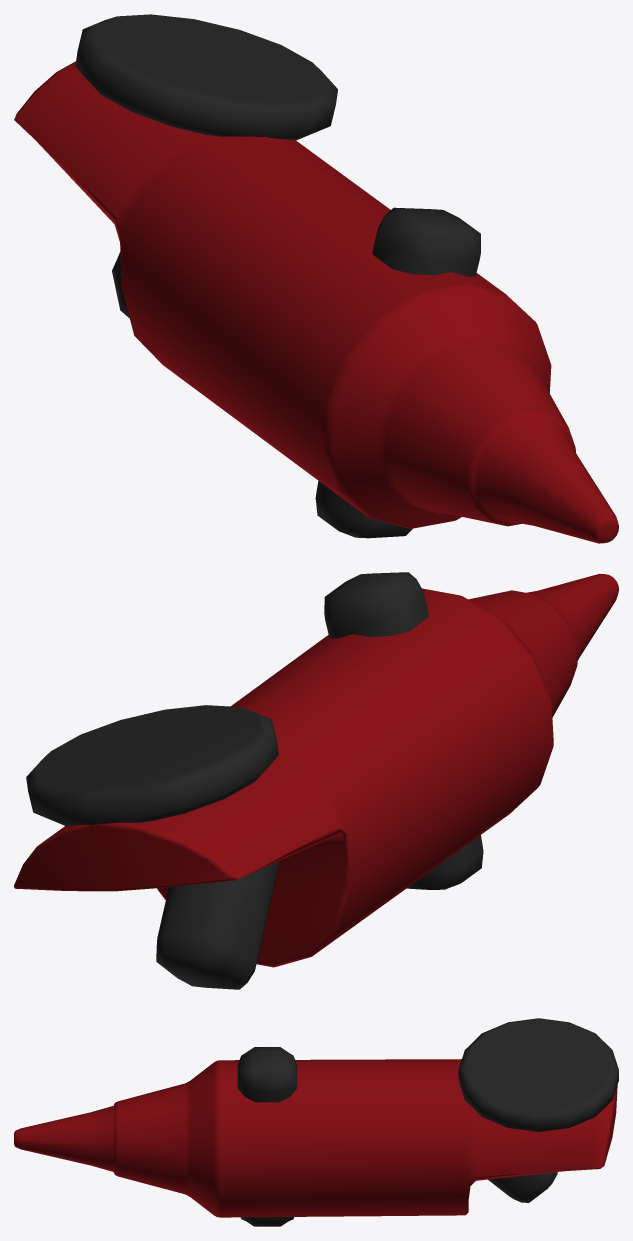
The model's file is Ship_enemy_04_Weapon_L.fbx.
3 views of the same model, one above another, from view 1: azimuth 30°, elevation 25°; view 2: azimuth 150°, elevation 25°; view 3: azimuth 270°, elevation 25° (orthographic). The views are drawn at different scales.
Parts seen in each view (by area): view 1: Ship_enemy_04_Weapon_L; view 2: Ship_enemy_04_Weapon_L; view 3: Ship_enemy_04_Weapon_L.
Boxes of the visible parts, bbox=[...] form: Ship_enemy_04_Weapon_L: bbox=[14, 14, 618, 543]; Ship_enemy_04_Weapon_L: bbox=[14, 572, 618, 989]; Ship_enemy_04_Weapon_L: bbox=[14, 1018, 618, 1226].
Bounding box in the file's own units: 80.04 × 91.97 × 265.
